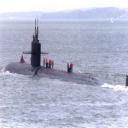submarine: (1, 42, 128, 89)
